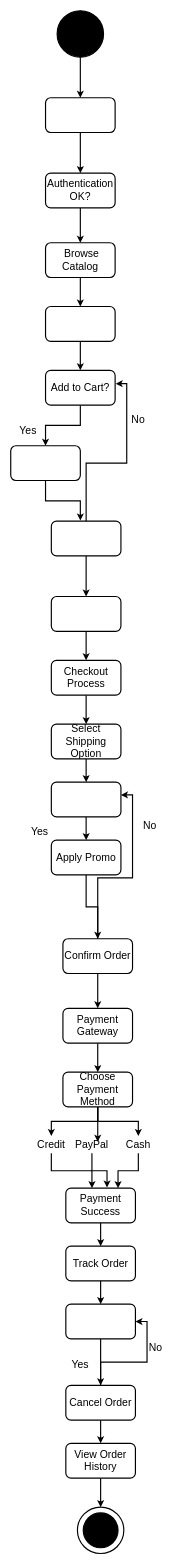
This 183x1564 diagram has some shape labels left out. The box of each missing label's shape, as (x1, y1, x2, y2) in pixels:
Add to Cart: (10, 445, 81, 481)
Apply Promo Code?: (50, 781, 121, 817)
Cancel Order? (Optional): (65, 1303, 136, 1339)
Login or Sign Up?: (45, 97, 115, 133)
Shopping Cart: (50, 520, 121, 556)
Update Quantity / Remove Item: (50, 596, 121, 632)
View Book Details: (45, 306, 115, 342)
